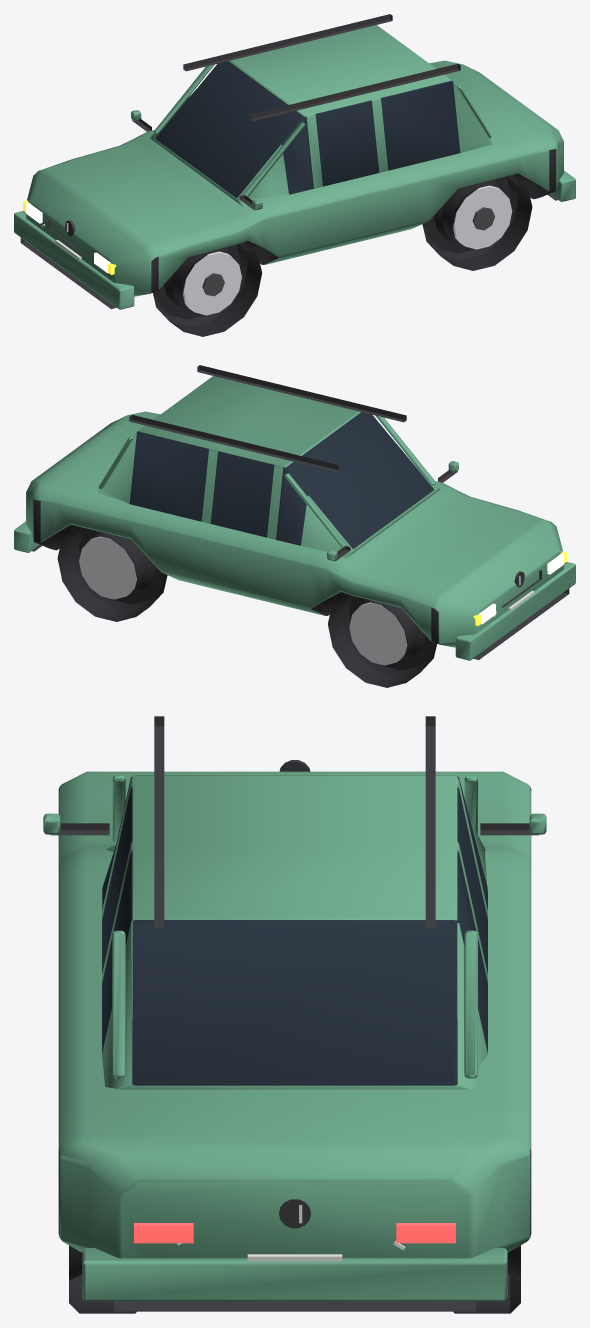
File: car_agata.glb
3 views of the same model, one above another, from view 1: azimuth 30°, elevation 25°; view 2: azimuth 150°, elevation 25°; view 3: azimuth 270°, elevation 25° (orthographic). The views are drawn at different scales.
Bounding box in the file's own units: 1.9 × 0.7541 × 0.9033.
